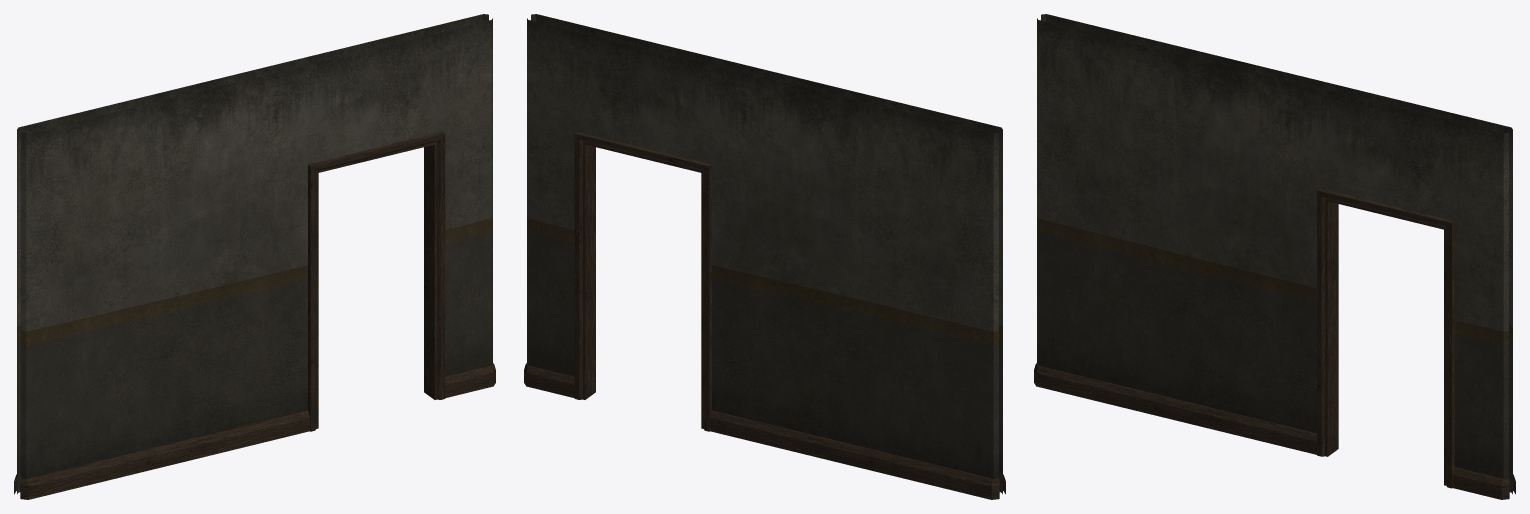
Rendered from side_doorway_1.obj.
3 renders of one model, left to right at view 1: azimuth 30°, elevation 25°; view 2: azimuth 150°, elevation 25°; view 3: azimuth 330°, elevation 25°, orthographic.
Parts seen in each view (by area): view 1: side_doorway_1; view 2: side_doorway_1; view 3: side_doorway_1.
Part boxes in pixels (x1,y1,x2,y2): side_doorway_1: (14, 14, 495, 499); side_doorway_1: (524, 14, 1005, 499); side_doorway_1: (1034, 14, 1515, 499).
Bounding box in the file's own units: 4.09 × 3 × 0.2.
